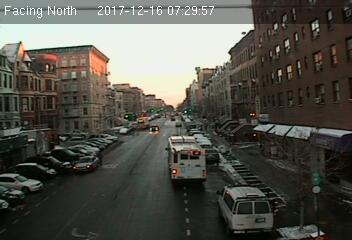bus: (167, 135, 208, 184)
car: (74, 156, 100, 171)
police: (214, 183, 274, 234)
